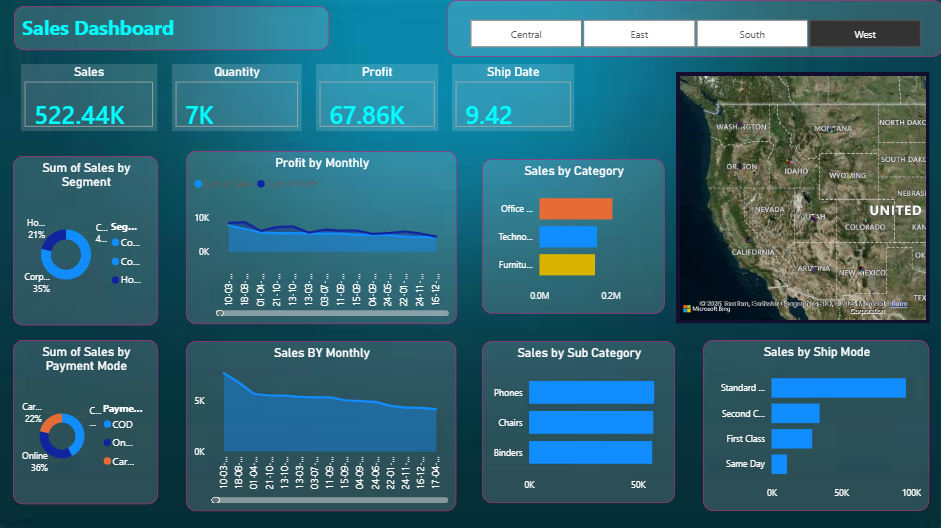

The dashboard page shown, as its layout file describes it:
{"tool":"powerbi","page":{"name":"Sales Dashboard","canvas":[1280,720],"ordinal":0},"visuals":[{"type":"clusteredBarChart","title":"Sales by Category","fields":{"Category":["SuperStore_Sales_Dataset.Category"],"Y":["Sum(SuperStore_Sales_Dataset.Sales)"]},"box":[654.8,215.4,248,209.8],"z":0},{"type":"clusteredBarChart","title":"Sales by Sub Category","fields":{"Category":["SuperStore_Sales_Dataset.Sub-Category"],"Y":["Sum(SuperStore_Sales_Dataset.Sales)"]},"box":[654.8,463.5,262.2,219.7],"z":1000},{"type":"clusteredBarChart","title":"Sales by Ship Mode","fields":{"Category":["SuperStore_Sales_Dataset.Ship Mode"],"Y":["Sum(SuperStore_Sales_Dataset.Sales)"]},"box":[954.1,461.9,307.4,231.8],"z":2000},{"type":"stackedAreaChart","title":"Profit  by Monthly","fields":{"Category":["SuperStore_Sales_Dataset.Order Date"],"Y":["Sum(SuperStore_Sales_Dataset.Sales)","Sum(SuperStore_Sales_Dataset.Profit)"]},"box":[252,204.9,367.9,235.2],"z":3000},{"type":"stackedAreaChart","title":"Sales BY Monthly","fields":{"Category":["SuperStore_Sales_Dataset.Order Date"],"Y":["Sum(SuperStore_Sales_Dataset.Sales)"]},"box":[252.3,463.5,367.1,231],"z":4000},{"type":"donutChart","fields":{"Category":["SuperStore_Sales_Dataset.Segment"],"Y":["Sum(SuperStore_Sales_Dataset.Sales)"]},"box":[17,211.2,197,229.6],"z":5000},{"type":"donutChart","fields":{"Category":["SuperStore_Sales_Dataset.Payment Mode"],"Y":["Sum(SuperStore_Sales_Dataset.Sales)"]},"box":[17,462,197,222.5],"z":6000},{"type":"slicer","fields":{"Values":["SuperStore_Sales_Dataset.Region"]},"box":[606.6,0,673.2,76.5],"z":7000},{"type":"textbox","box":[18.5,8.4,428.3,60.5],"z":8000},{"type":"map","fields":{"Category":["SuperStore_Sales_Dataset.State"],"Series":["SuperStore_Sales_Dataset.Sales"]},"box":[917.2,97.4,344.4,341],"z":9000},{"type":"cardVisual","title":"Sales","fields":{"Data":["Sum(SuperStore_Sales_Dataset.Sales)"]},"box":[28.6,87.3,184.8,90.7],"z":10000},{"type":"cardVisual","title":"Quantity","fields":{"Data":["Sum(SuperStore_Sales_Dataset.Quantity)"]},"box":[233.5,87.3,176.4,90.7],"z":10001},{"type":"cardVisual","title":"Profit","fields":{"Data":["Sum(SuperStore_Sales_Dataset.Profit)"]},"box":[428.3,87.3,166.3,90.7],"z":10002},{"type":"cardVisual","title":"Ship Date","fields":{"Data":["Avg(SuperStore_Sales_Dataset.AvgDeliverey)"]},"box":[613.1,87.3,166.3,90.7],"z":10003}]}

Visuals, with their boxes in screenshot pixels (x1, y1, x2, y2), scaled from the page's 1280x720 canvas onto the 941x528 screenshot:
"Sales by Category" clusteredBarChart: crop(481, 158, 664, 312)
"Sales by Sub Category" clusteredBarChart: crop(481, 340, 674, 501)
"Sales by Ship Mode" clusteredBarChart: crop(701, 339, 927, 509)
"Profit  by Monthly" stackedAreaChart: crop(185, 150, 456, 323)
"Sales BY Monthly" stackedAreaChart: crop(185, 340, 455, 509)
donutChart - SuperStore_Sales_Dataset.Segment x Sum(SuperStore_Sales_Dataset.Sales): crop(12, 155, 157, 323)
donutChart - SuperStore_Sales_Dataset.Payment Mode x Sum(SuperStore_Sales_Dataset.Sales): crop(12, 339, 157, 502)
slicer - SuperStore_Sales_Dataset.Region: crop(446, 0, 940, 56)
textbox: crop(14, 6, 328, 51)
map - SuperStore_Sales_Dataset.State x SuperStore_Sales_Dataset.Sales: crop(674, 71, 927, 321)
"Sales" cardVisual: crop(21, 64, 157, 131)
"Quantity" cardVisual: crop(172, 64, 301, 131)
"Profit" cardVisual: crop(315, 64, 437, 131)
"Ship Date" cardVisual: crop(451, 64, 573, 131)
